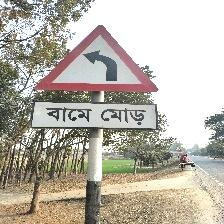Left-Turn: (32, 24, 161, 133)
